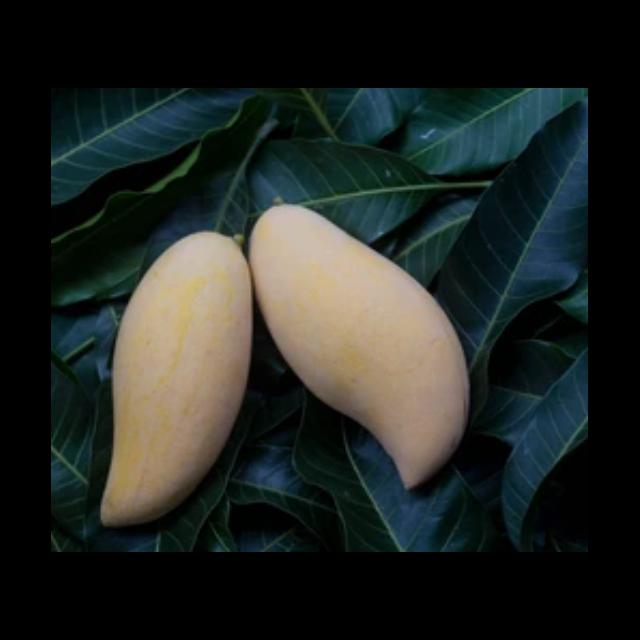mango: (252, 202, 471, 493), (99, 231, 253, 525)
